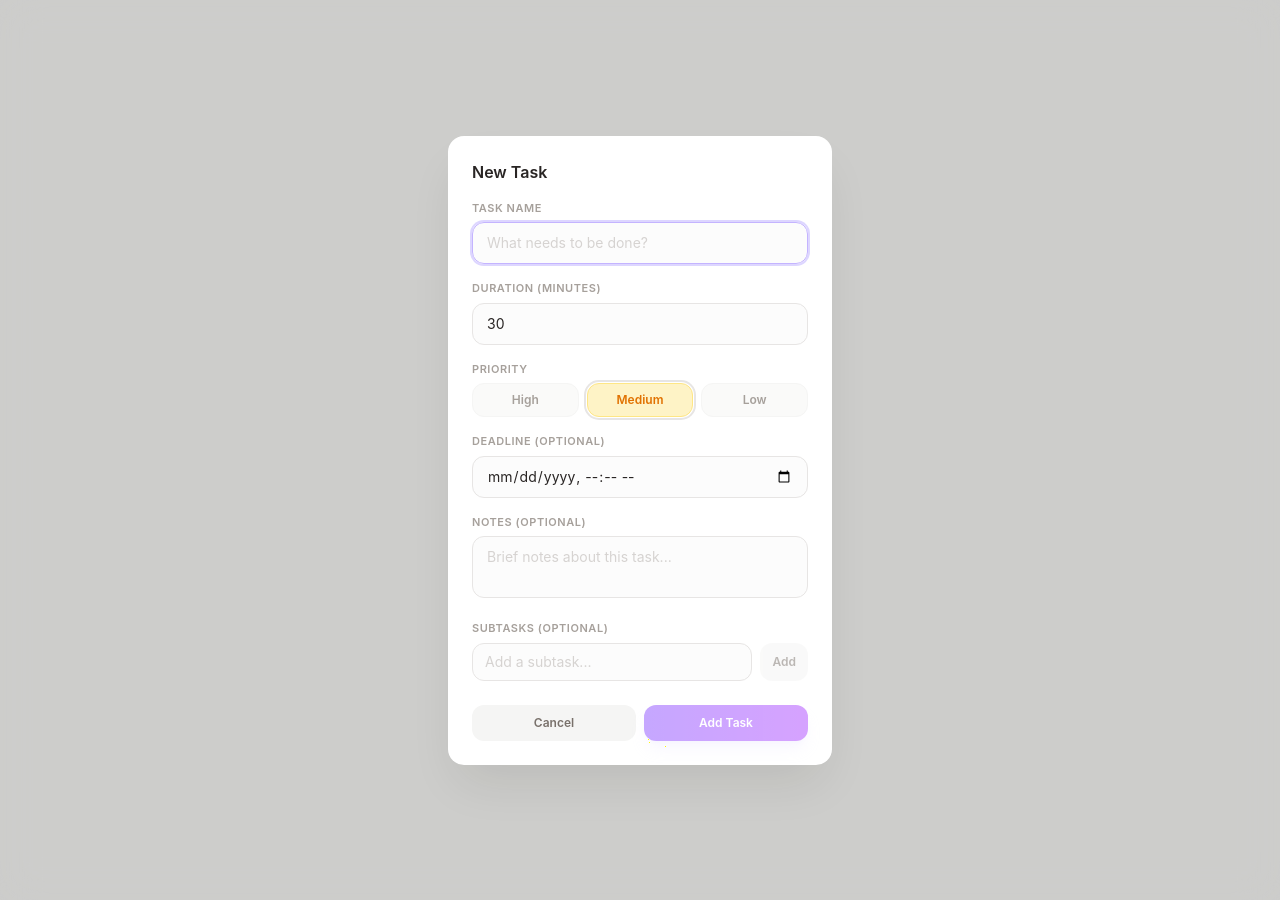
Scenario: AddTaskModal › can add a subtask via Enter key
In the field with placeholder "Add a subtask...": (612, 662) left=472, top=642, right=752, bottom=680, type "Subtask via enter"
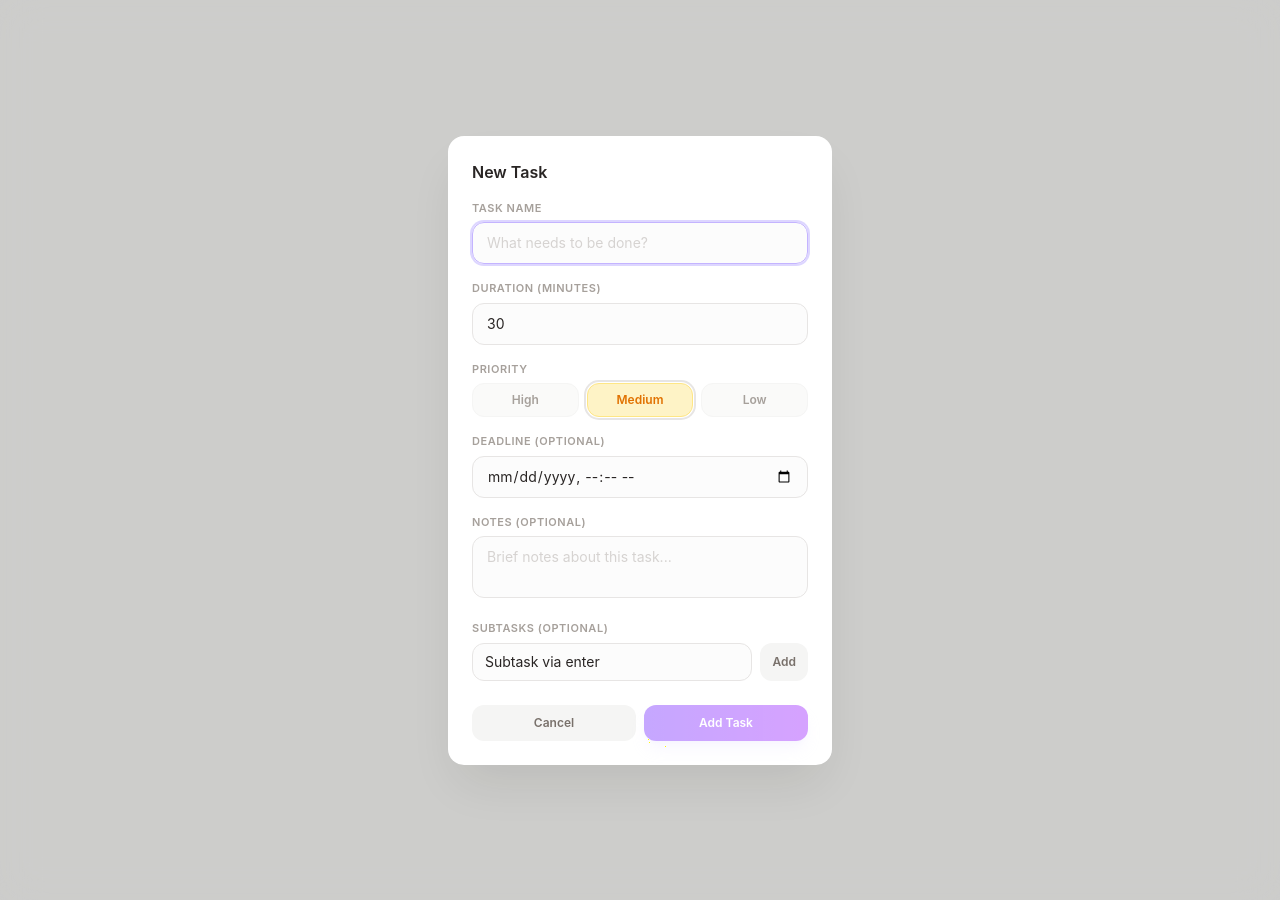
Press Enter in the field with placeholder "Add a subtask..." below "Subtasks (optional)", box left=472, top=642, right=752, bottom=680
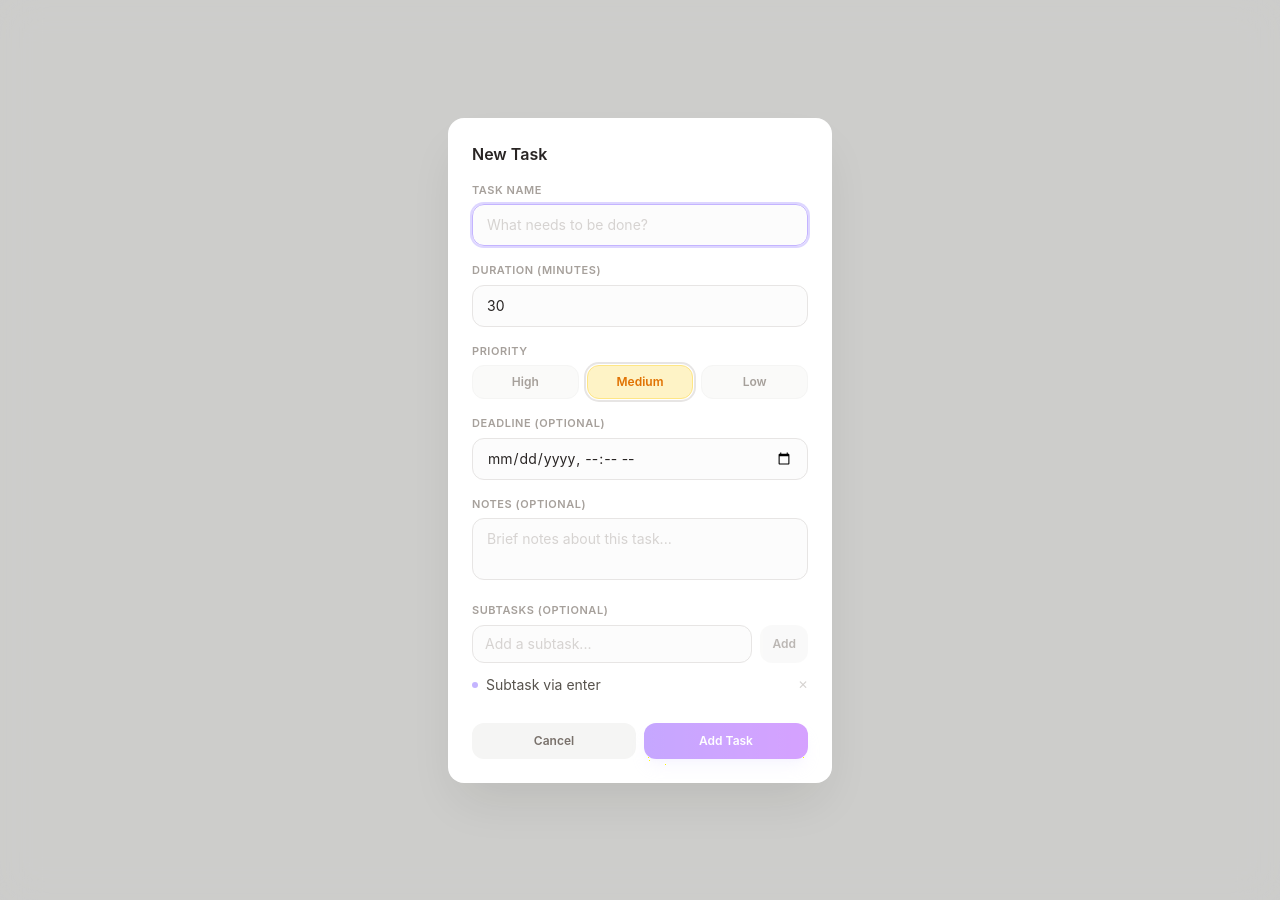
Now the text "Subtask via enter" is shown, box left=486, top=676, right=601, bottom=692
